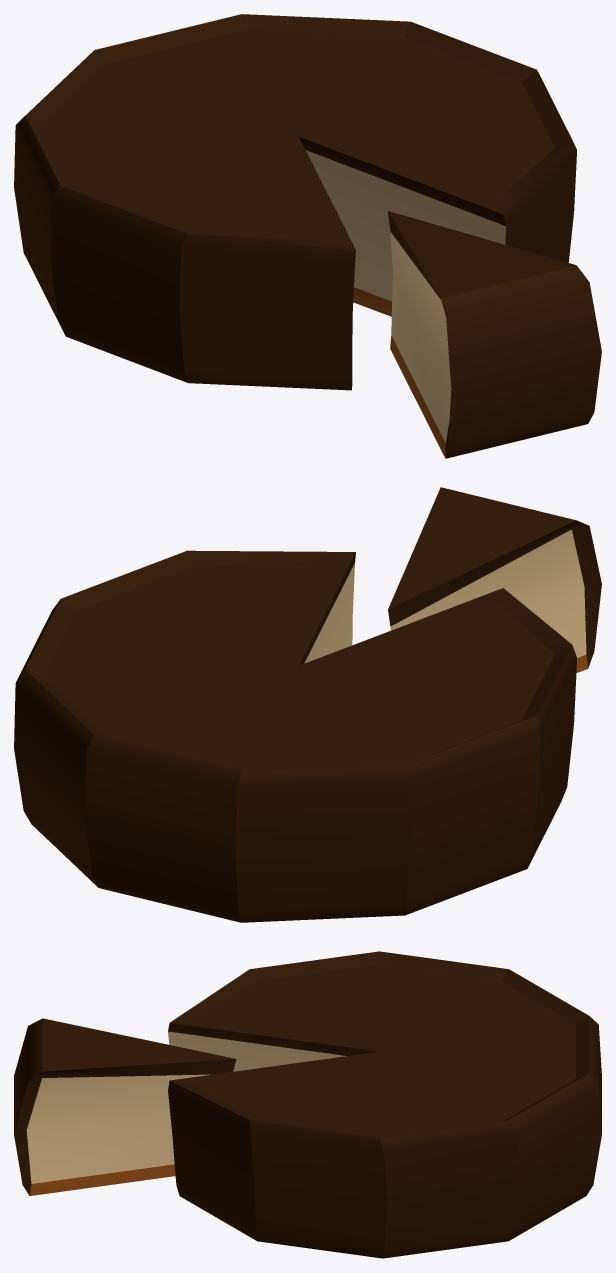
The model's file is cake.fbx.
3 renders of one model, top to bottom at view 1: azimuth 30°, elevation 25°; view 2: azimuth 150°, elevation 25°; view 3: azimuth 270°, elevation 25°, orthographic. The views are drawn at different scales.
Parts seen in each view (by area): view 1: Cake; view 2: Cake; view 3: Cake.
Part boxes in pixels (box(x1,y1,x2,y2)): Cake: box(14, 14, 601, 458); Cake: box(14, 487, 601, 922); Cake: box(14, 951, 601, 1258).
Size of the model in its own units: 2.22 by 0.6691 by 2.89.
